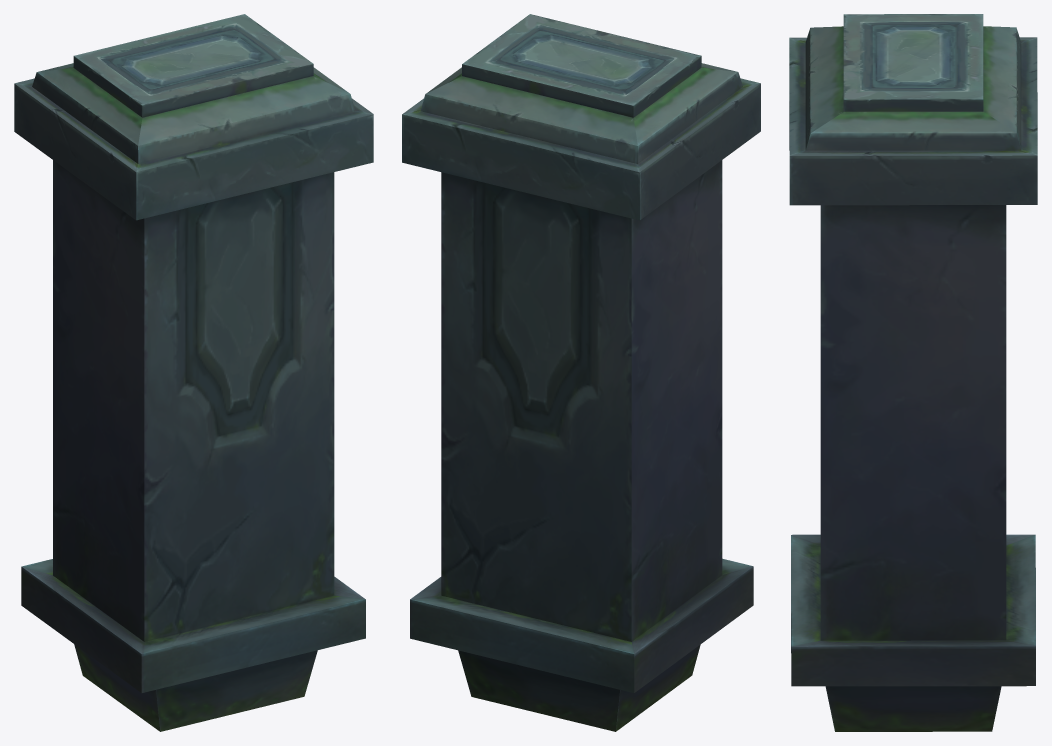
The model's file is zhucheng_langan01.FBX.
3 renders of one model, left to right at view 1: azimuth 30°, elevation 25°; view 2: azimuth 150°, elevation 25°; view 3: azimuth 270°, elevation 25°, orthographic. The views are drawn at different scales.
Parts seen in each view (by area): view 1: zhucheng_langan01; view 2: zhucheng_langan01; view 3: zhucheng_langan01.
Boxes of the visible parts, x1,y1,x2,y2 form: zhucheng_langan01: (14,14,373,731); zhucheng_langan01: (402,14,760,731); zhucheng_langan01: (789,14,1037,731).
Bounding box in the file's own units: 306 × 770 × 271.
